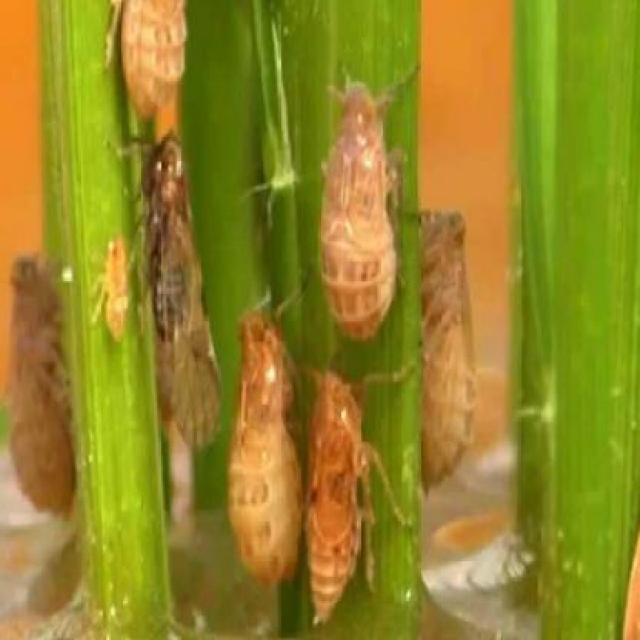brown-planthopper: (137, 138, 218, 450), (310, 69, 402, 337), (7, 255, 78, 519), (229, 314, 300, 574), (416, 205, 476, 497), (309, 370, 374, 622), (110, 2, 188, 118), (94, 232, 131, 343)
